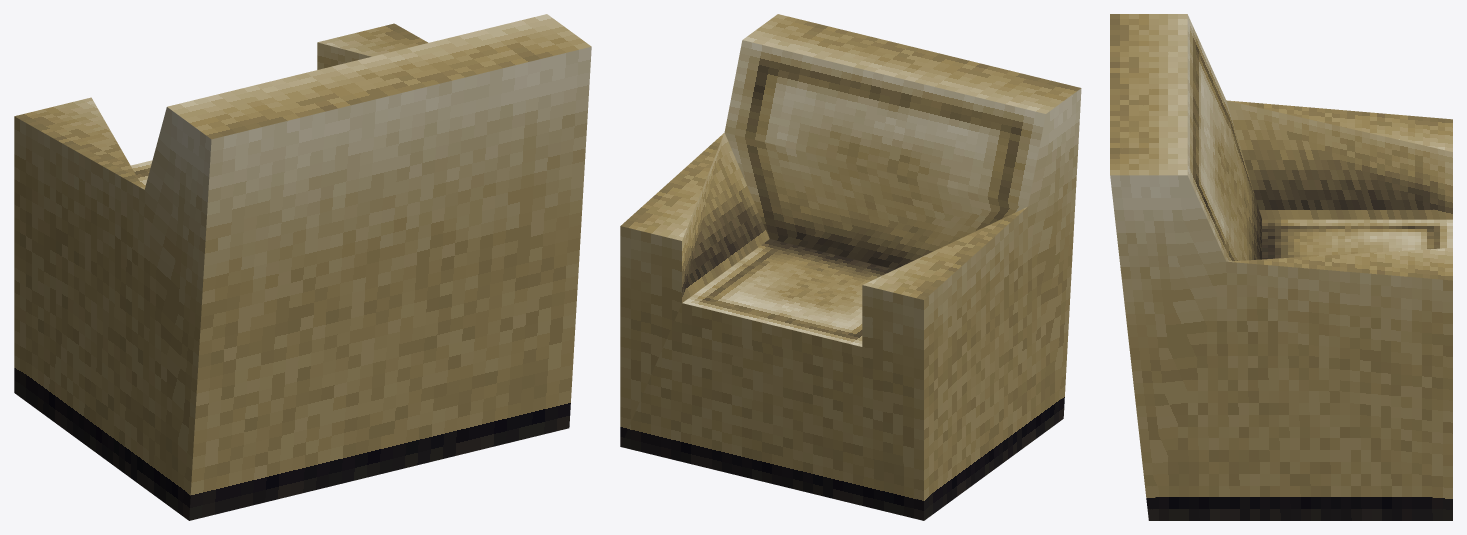
3 views of the same model, side by side, from view 1: azimuth 30°, elevation 25°; view 2: azimuth 150°, elevation 25°; view 3: azimuth 270°, elevation 25° (orthographic). The views are drawn at different scales.
Parts seen in each view (by area): view 1: prim101-sofa; view 2: prim101-sofa; view 3: prim101-sofa.
Boxes of the visible parts, x1,y1,x2,y2 form: prim101-sofa: (14, 14, 591, 520); prim101-sofa: (620, 14, 1081, 520); prim101-sofa: (1110, 14, 1452, 520).
Bounding box in the file's own units: 128 × 128 × 115.
1 material, 1 textured.
